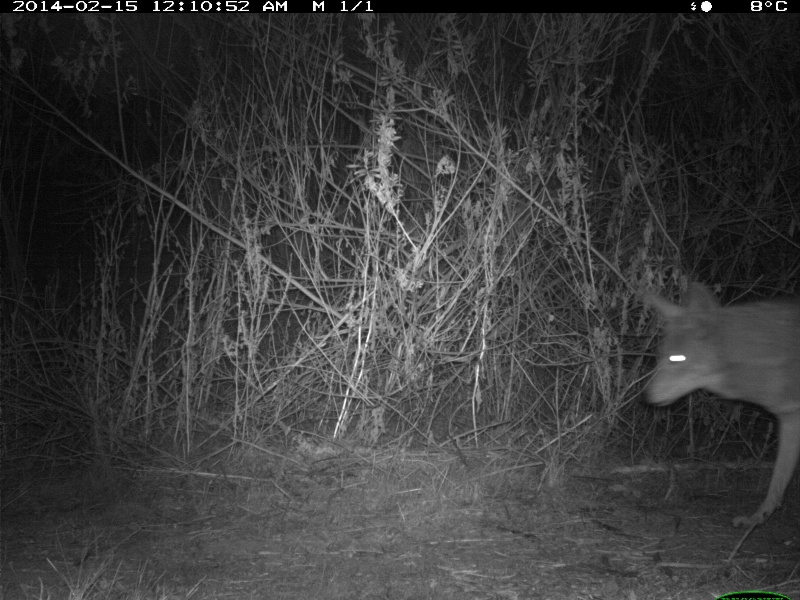coyote: (634, 280, 800, 526)
